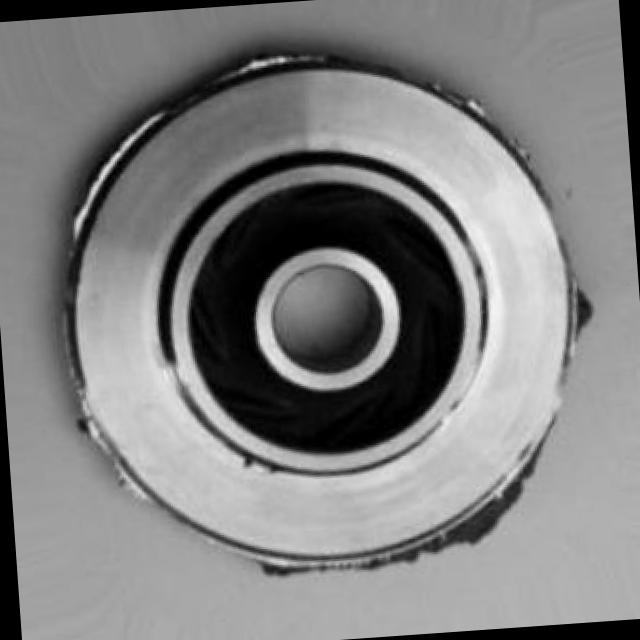Defect: (430, 497, 520, 548)
